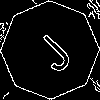J: (25, 25, 75, 75)
